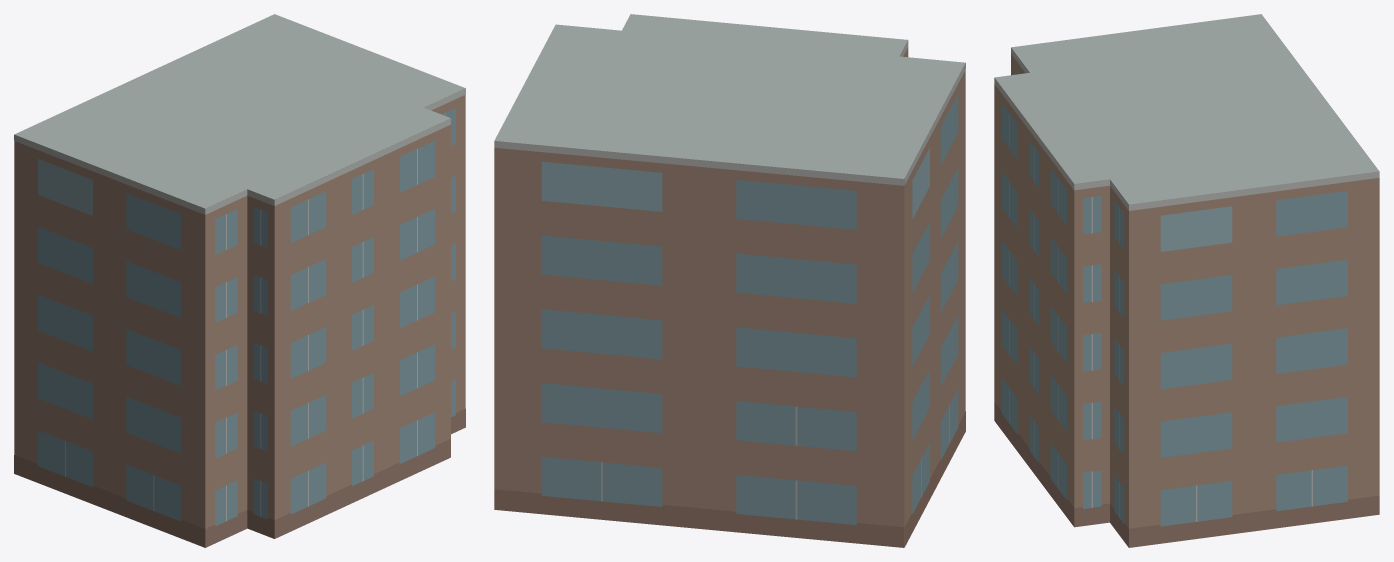
The model's file is survey-upis-32614897.glb.
3 renders of one model, left to right at view 1: azimuth 30°, elevation 25°; view 2: azimuth 150°, elevation 25°; view 3: azimuth 270°, elevation 25°, orthographic. The views are drawn at different scales.
Visible parts, largest first — view 1: survey-upis-32614897.tmp; view 2: survey-upis-32614897.tmp; view 3: survey-upis-32614897.tmp.
Part boxes in pixels (<box>): survey-upis-32614897.tmp: <box>14,14,465,547</box>; survey-upis-32614897.tmp: <box>494,14,965,547</box>; survey-upis-32614897.tmp: <box>994,14,1379,547</box>.
Size of the model in its own units: 15.74 by 13.2 by 13.44.
